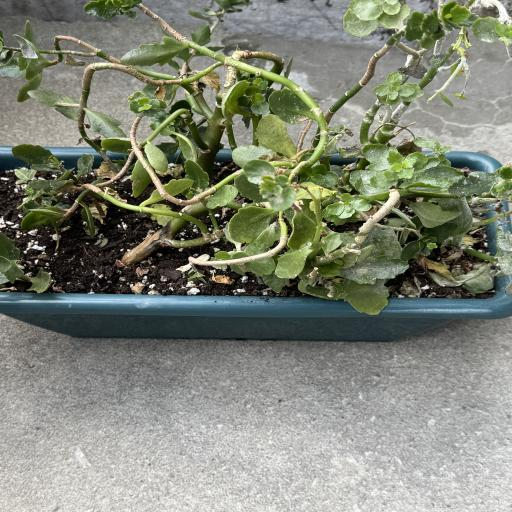Plant Pot: (0, 143, 511, 339)
